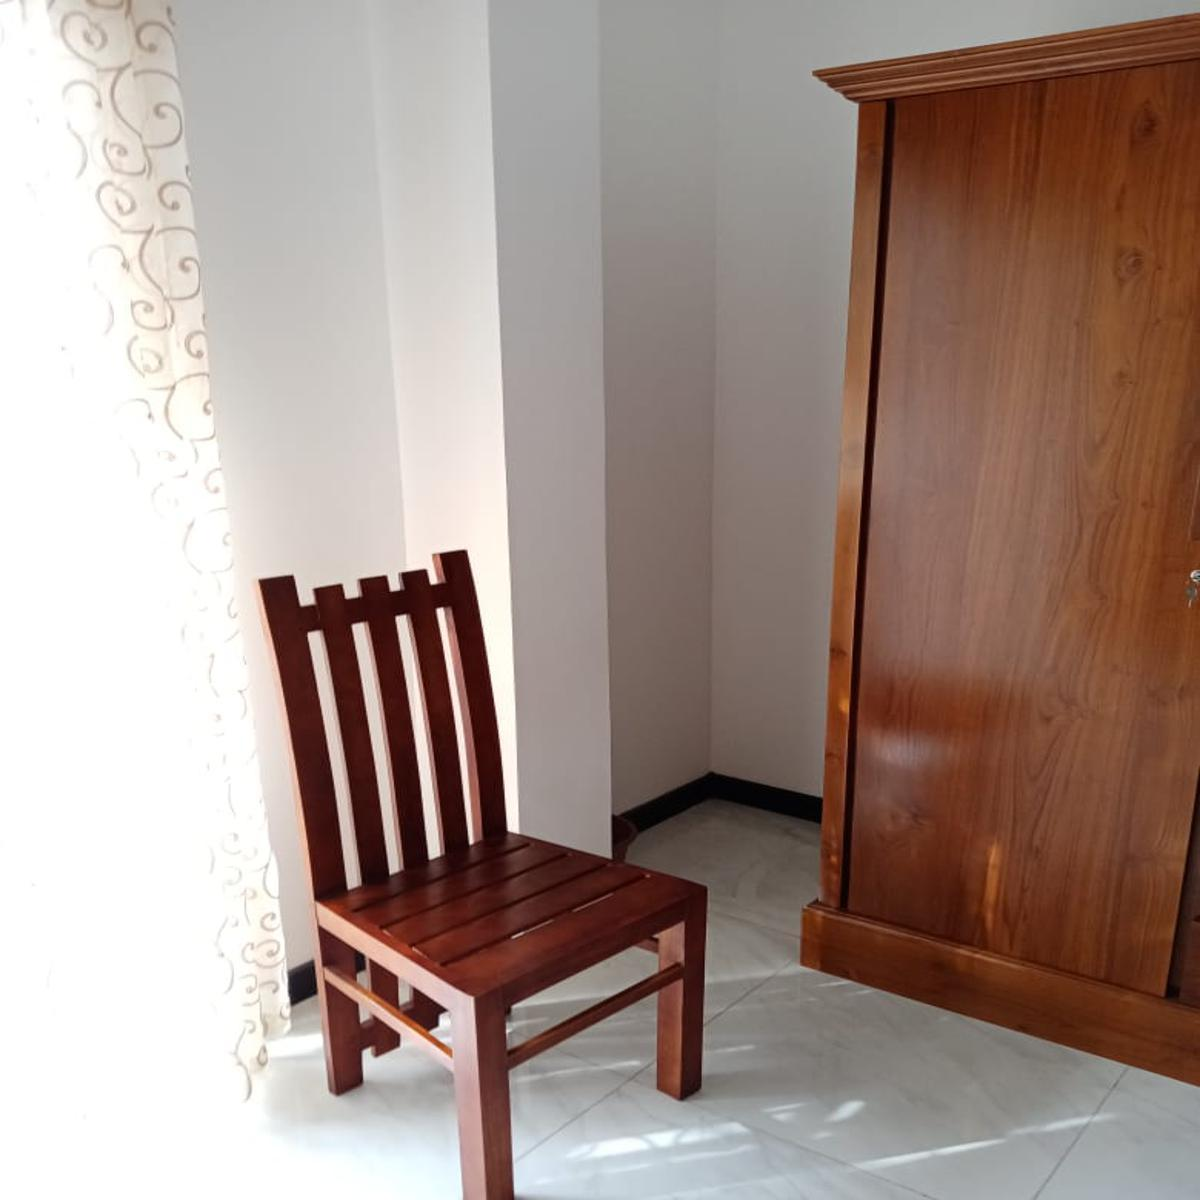Chair: (246, 544, 711, 1199)
